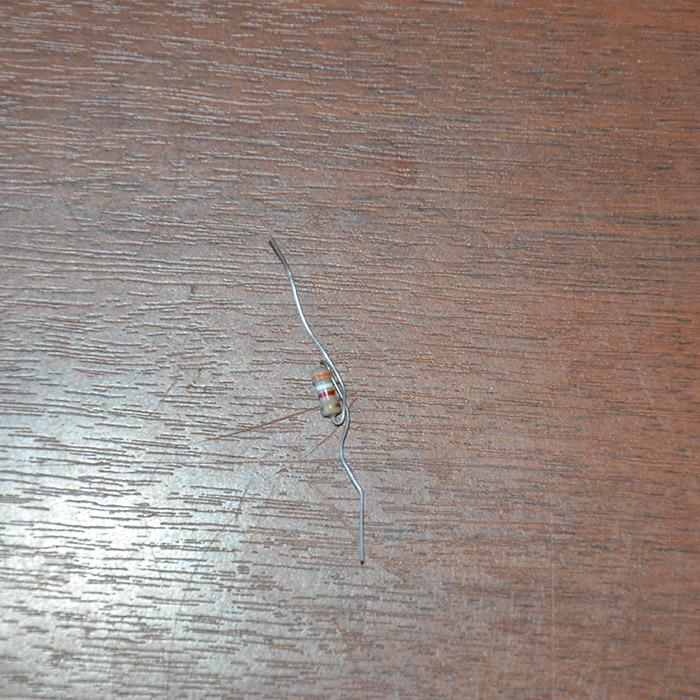resistor: (310, 364, 342, 419)
